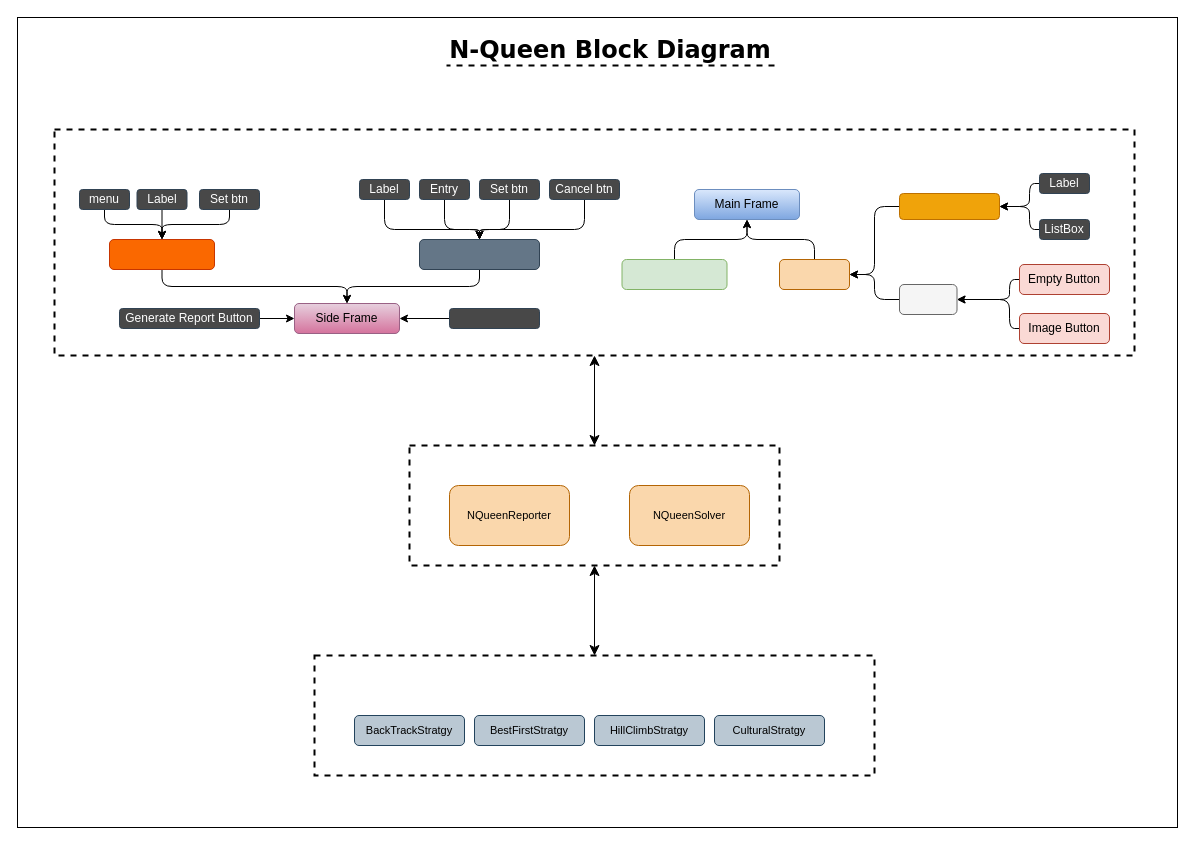
The diagram is 1195 pixels wide and 845 high, and some of its shapes have lost their labels. The shapes that lost their labels are listed below. From the top down, each one's box as (x1, y1, x2, y2) in pixels, then its label:
(898, 192, 1000, 220): Solution List
(108, 238, 214, 270): Stratgy Form
(418, 238, 540, 270): N-Queen Form
(53, 128, 1135, 356): User Interface
(621, 258, 727, 290): Report Plot
(778, 258, 850, 290): Board
(448, 308, 540, 328): Solve Button
(898, 284, 957, 314): Tile
(408, 444, 780, 566): NQueenPuzzle
(313, 654, 875, 776): PuzzleStratgies
